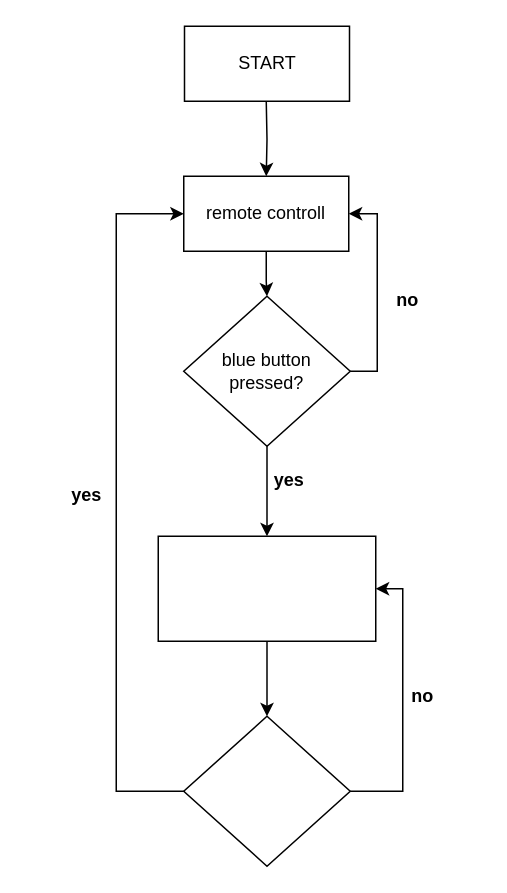
Image size: 507x893. Some labels were removed from this diagram. The shapes that lost their labels are listed below. From the top down, each one's centre as x and y in pixels, then its label:
At pixel 266 588: "autonomous driving and obstacle avoidance".
At pixel 266 790: "black button pressed?".
